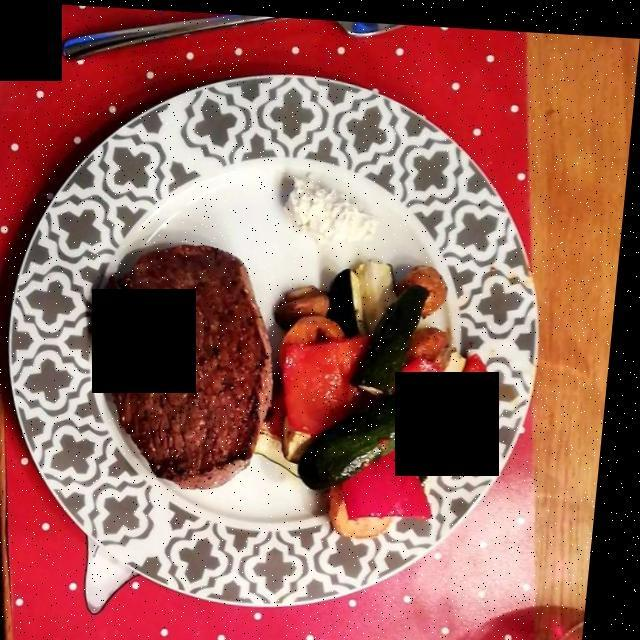beef: (79, 235, 302, 491)
mixed-vegetables: (286, 262, 512, 543)
